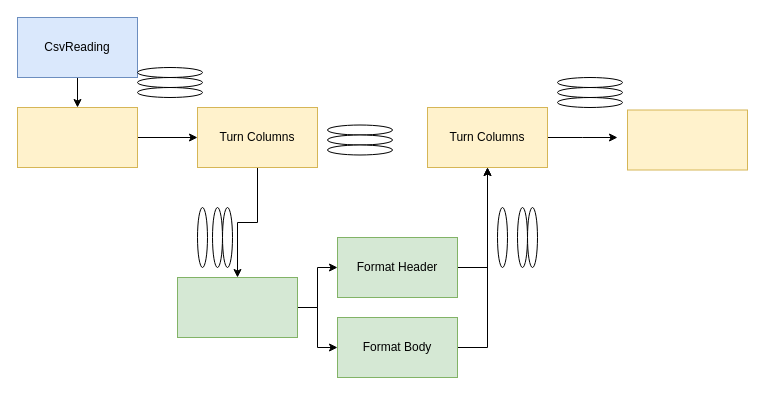
Some shapes in this 765 by 395 pixel diagram are drawn without their labels. Each missing label, with the box of its shape:
CsvParsing: (16, 106, 138, 168)
Parse table to rows: (626, 109, 748, 170)
Width of Column: (176, 276, 298, 338)
